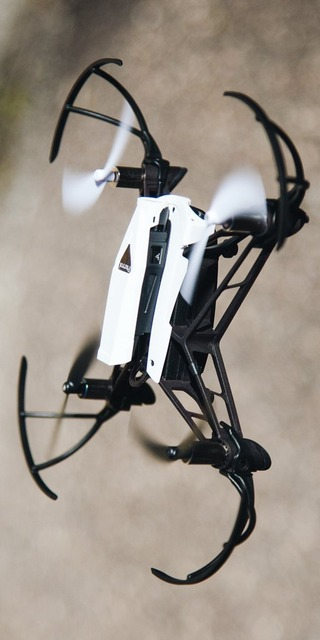drone: (14, 58, 311, 588)
